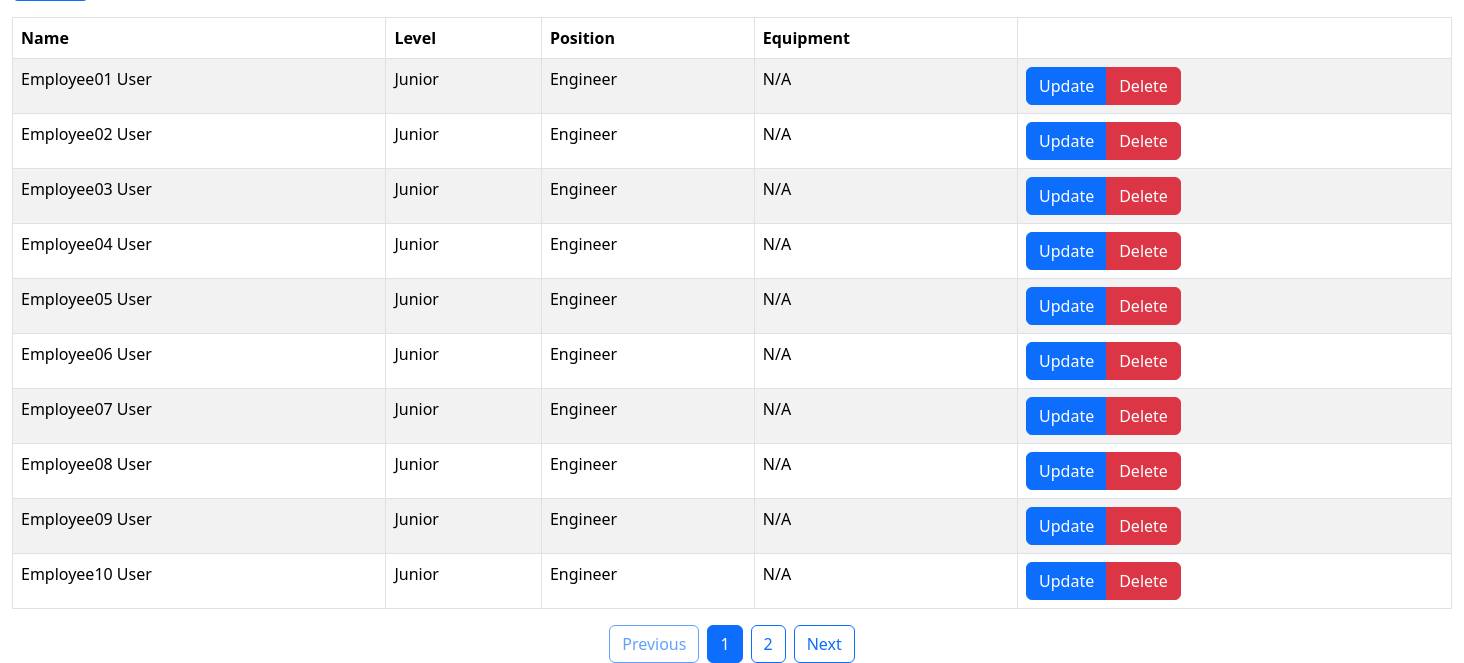
it: employee list › returns to a valid page after deleting the final employee on page two
(page scrolled)
Click the button "Next" at (824, 644), box x1=794 y1=625 x2=855 y2=662
(page scrolled)
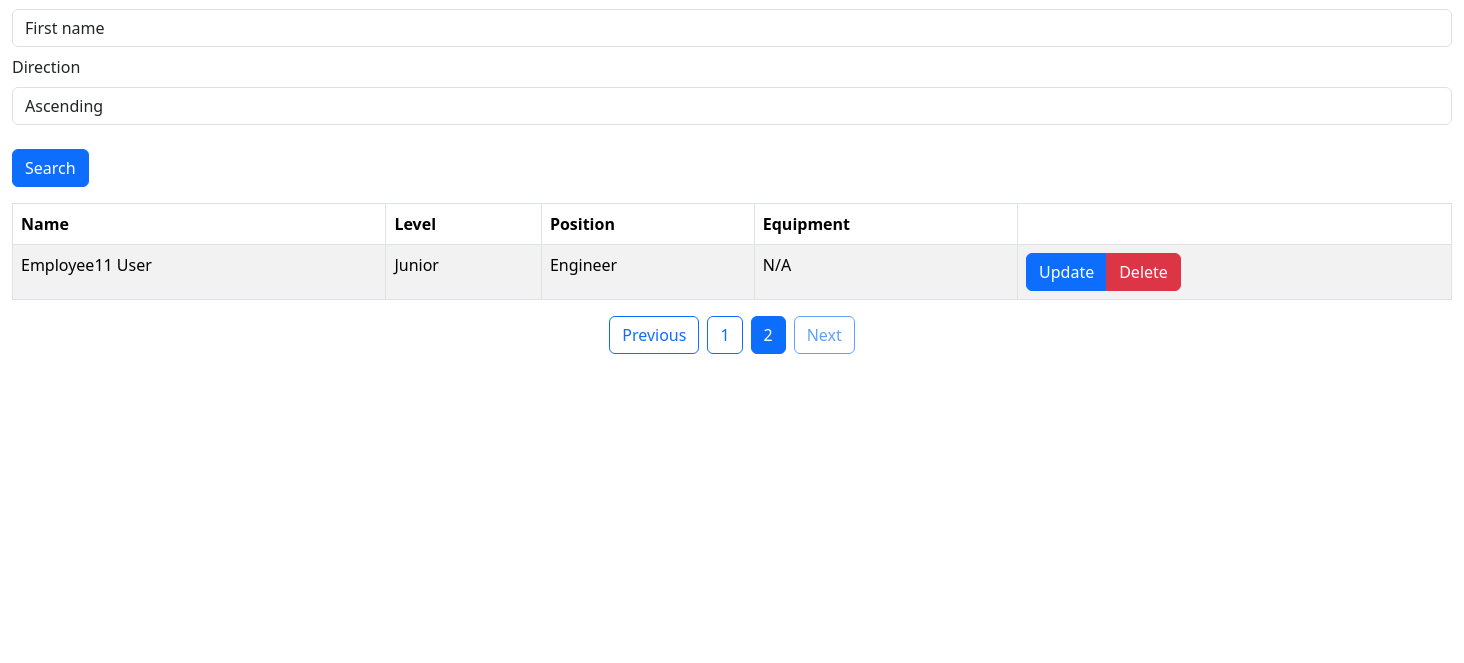
Click the button "Delete" at (1144, 272), box x1=1106 y1=253 x2=1181 y2=291
(page scrolled)
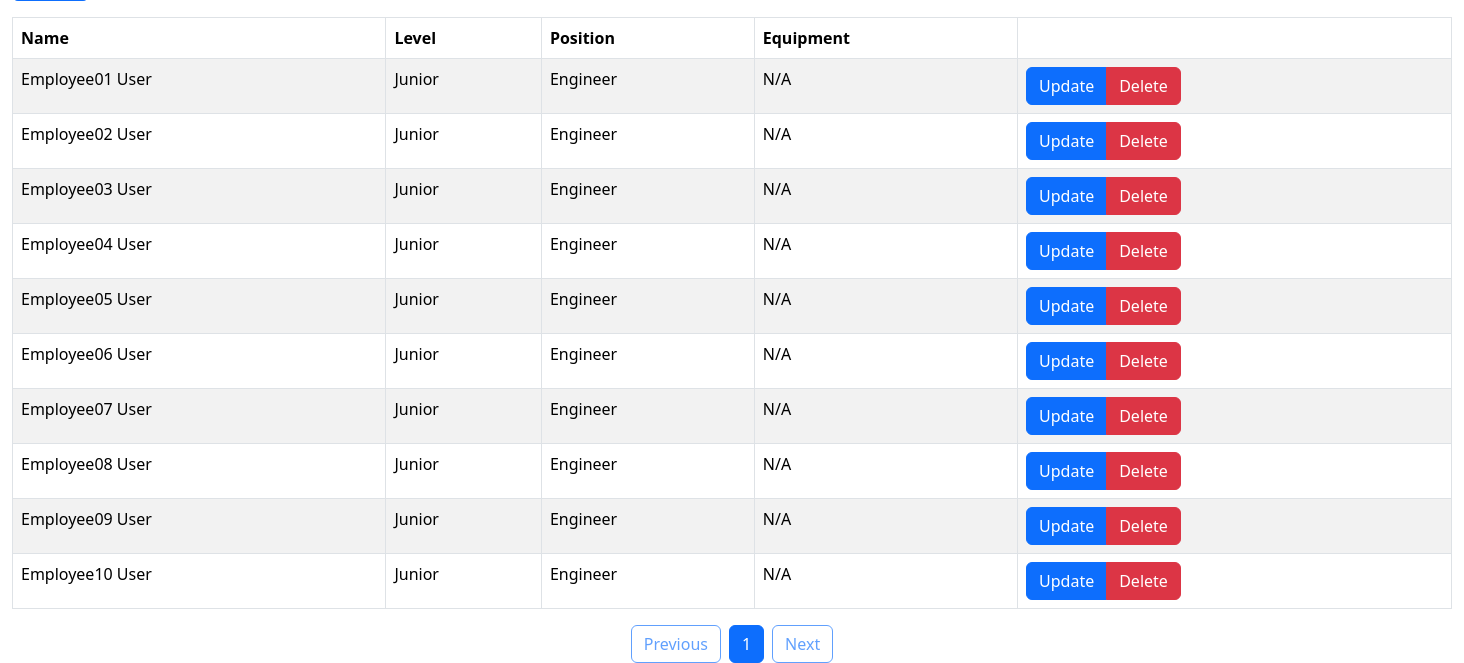
Result: the button "Previous" is disabled at x1=631 y1=625 x2=721 y2=662
